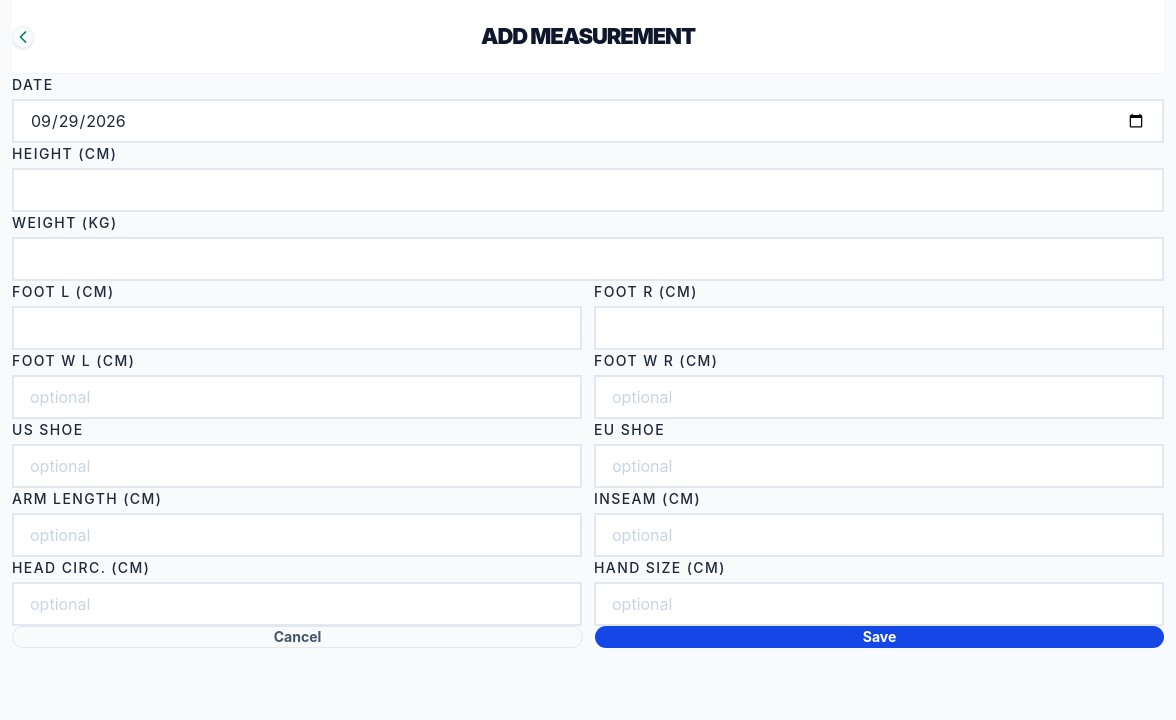
Test case: EditMeasurementEntryScreen › add mode › validation › shows error when left foot length exceeds 30 cm (dual mode)
This screenshot has width=1176, height=720.
Type "142" into the number field labelled "Height (cm)" at (588, 190), box [12,168,1164,212]
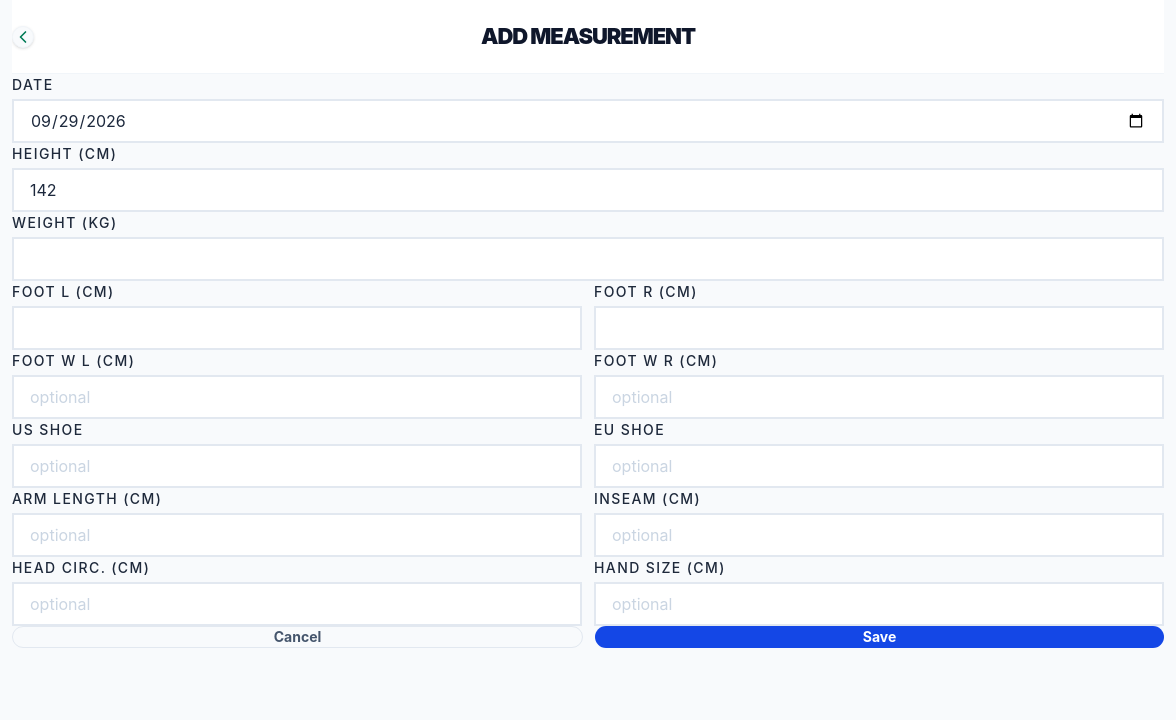
Type "38" into the number field labelled "Weight (kg)" at (588, 259), box [12,237,1164,281]
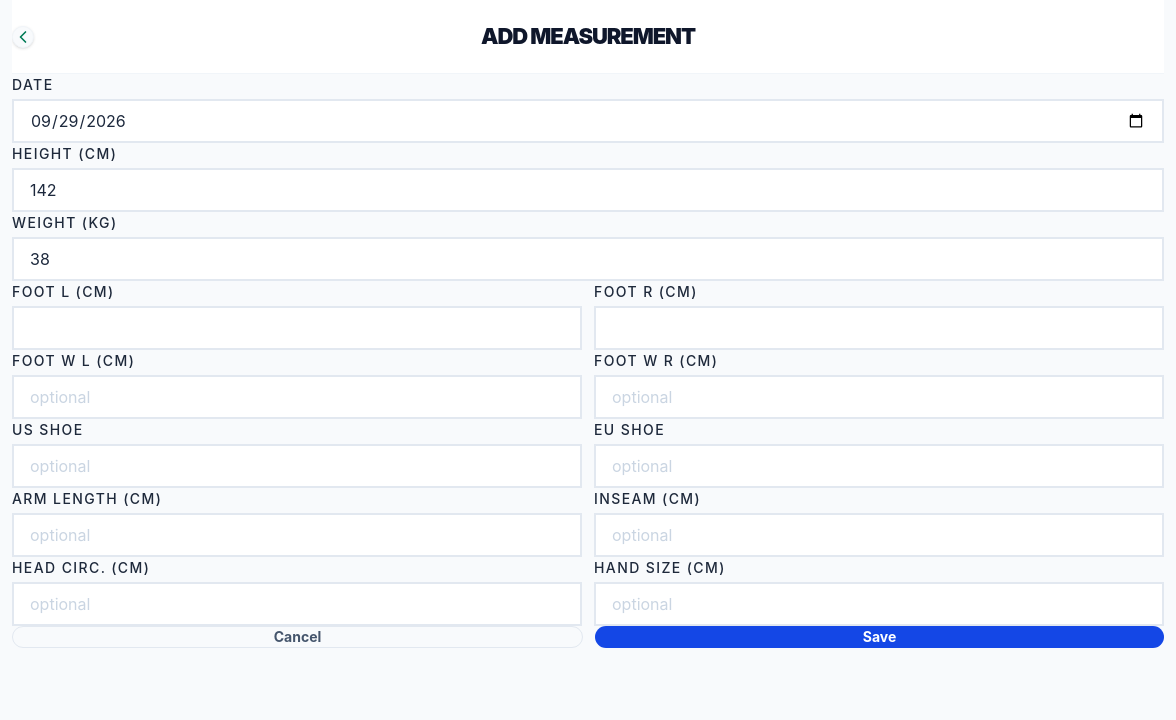
Type "31" into the number field labelled "Foot L (cm)" at (297, 328), box [12,306,582,350]
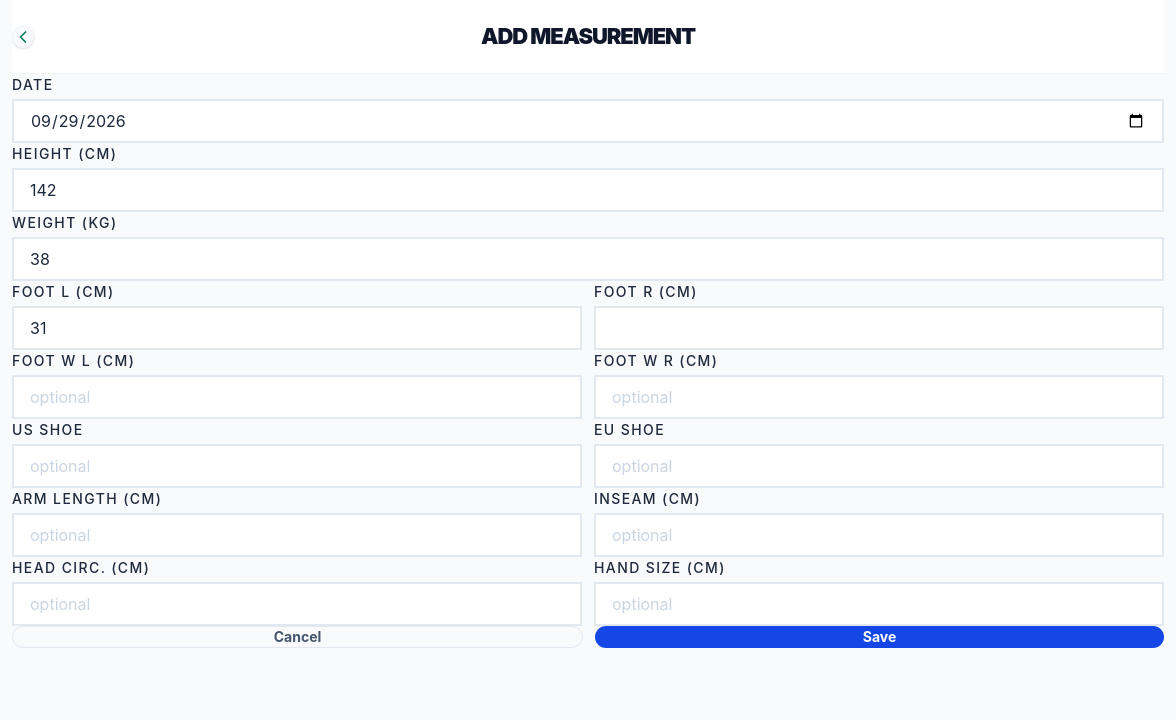
Type "22.5" into the number field labelled "Foot R (cm)" at (879, 328), box [594,306,1164,350]
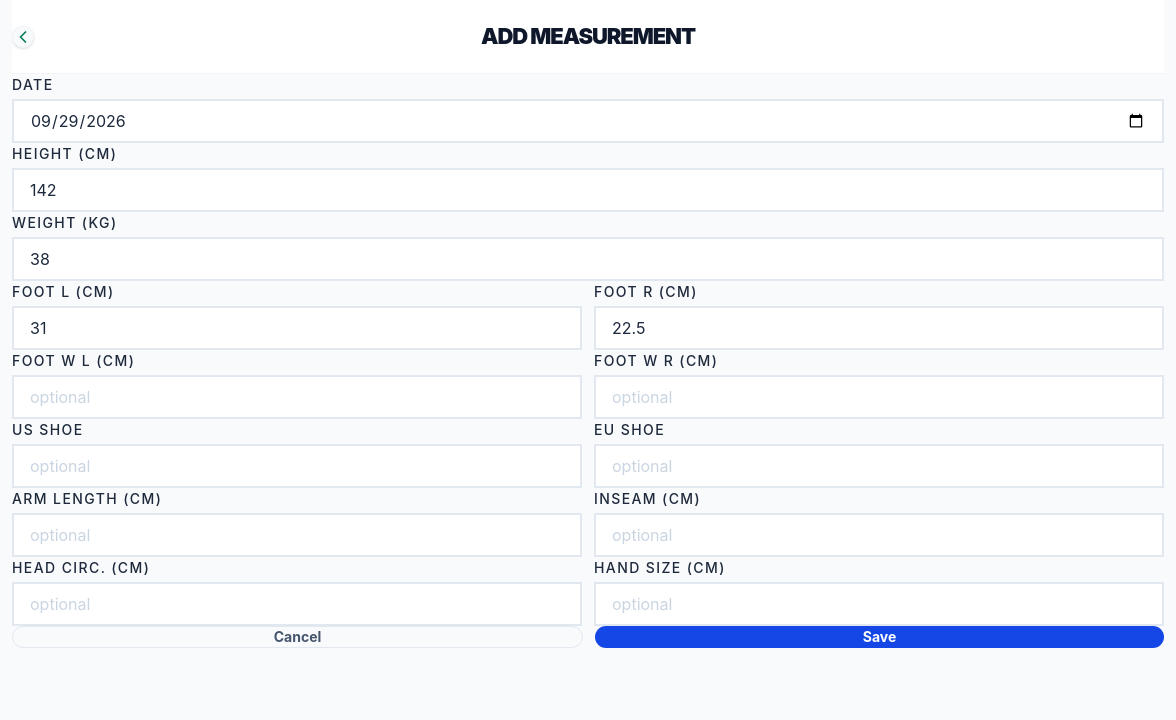
Click the button "Save" at (880, 637), box [595,626,1164,648]
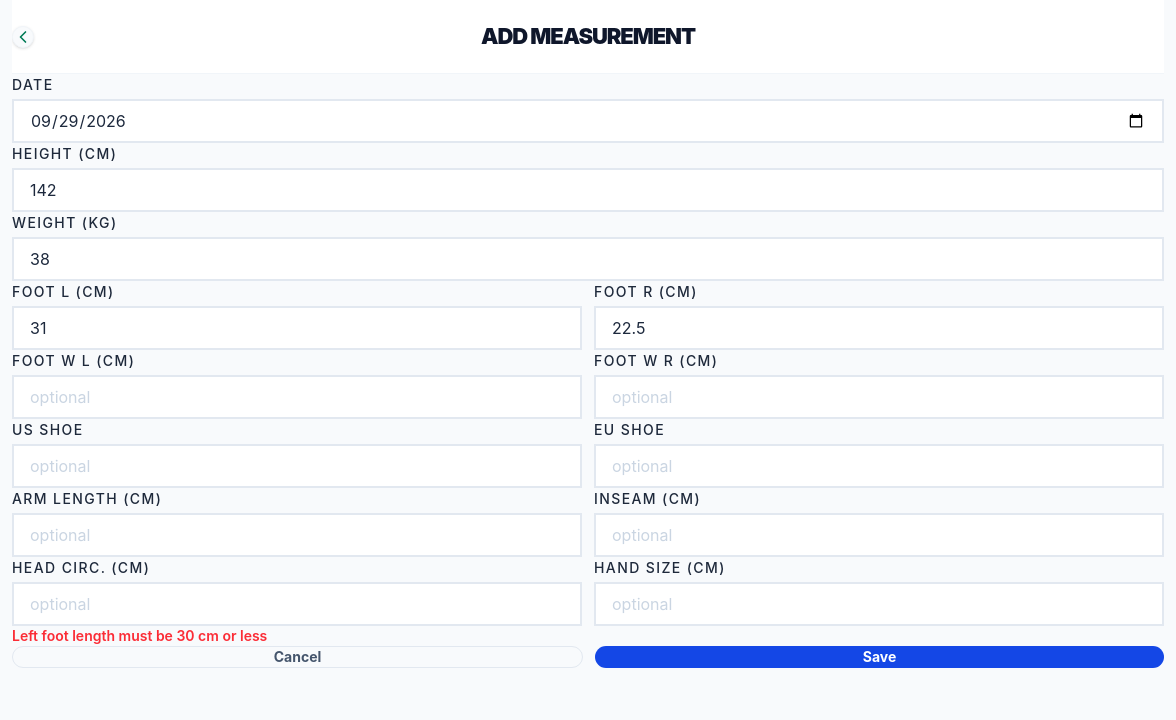
Result: the text "Left foot length must be 30 cm or less" is shown at [12,627,267,644]
